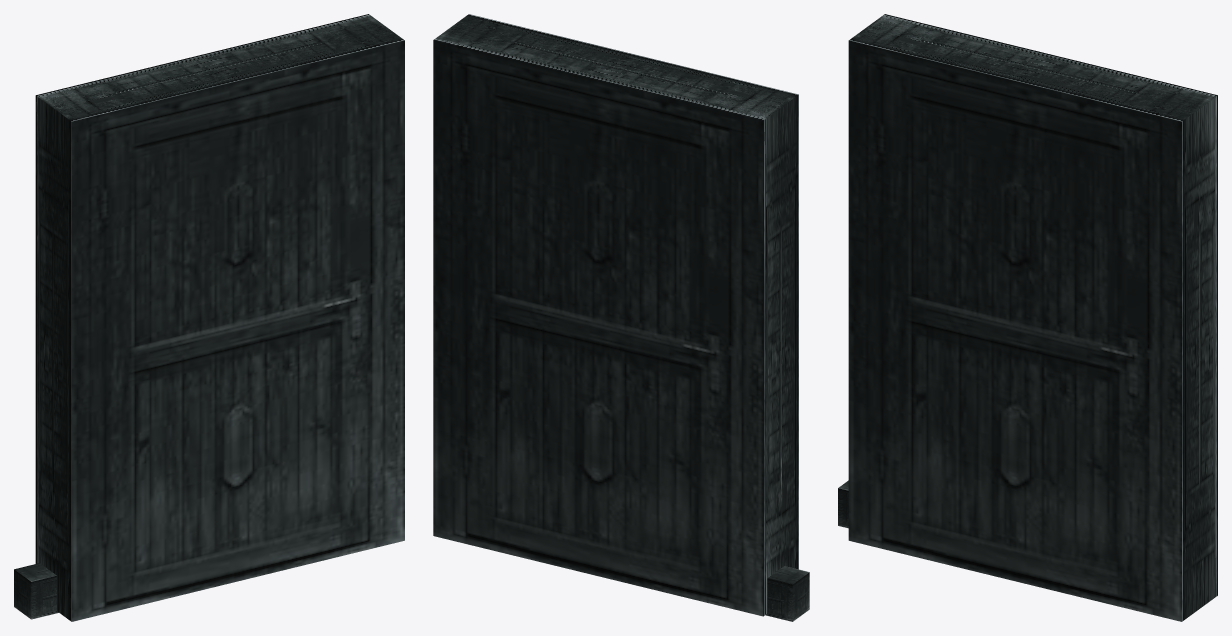
File: door.fbx
3 views of the same model, side by side, from view 1: azimuth 30°, elevation 25°; view 2: azimuth 150°, elevation 25°; view 3: azimuth 330°, elevation 25° (orthographic).
Visible parts, largest first — view 1: door, door parent; view 2: door, door parent; view 3: door.
Part boxes in pixels (bbox=[...]): door: bbox=[35, 14, 404, 621]; door parent: bbox=[14, 563, 58, 619]; door: bbox=[433, 14, 798, 616]; door parent: bbox=[765, 566, 809, 621]; door: bbox=[848, 14, 1217, 621].
Bounding box in the file's own units: 38.17 × 51.1 × 6.65.
1 material, 1 textured.
